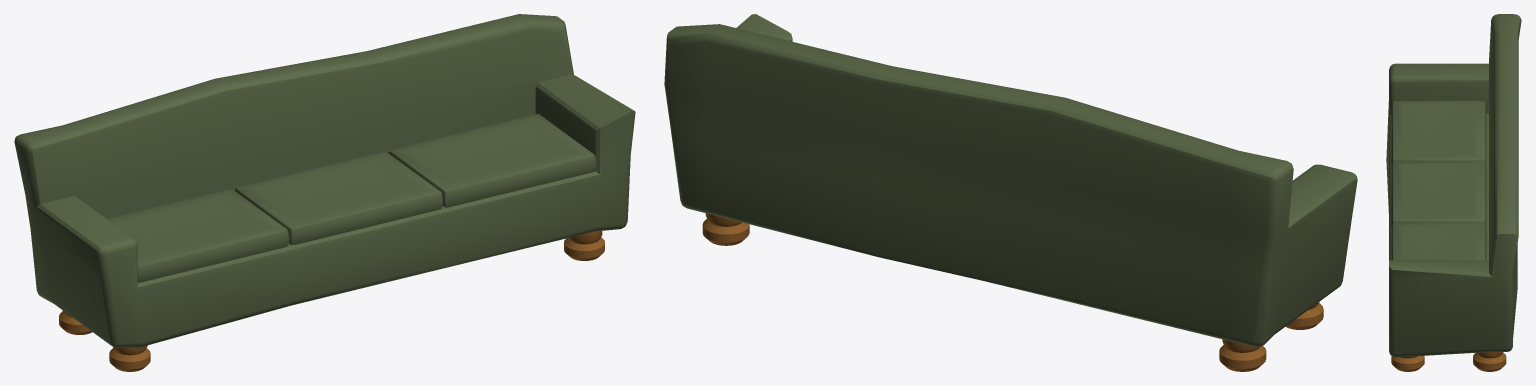
The model's file is couch.fbx.
3 renders of one model, left to right at view 1: azimuth 30°, elevation 25°; view 2: azimuth 150°, elevation 25°; view 3: azimuth 270°, elevation 25°, orthographic. The views are drawn at different scales.
Visible parts, largest first — view 1: Couch; view 2: Couch; view 3: Couch.
Boxes of the visible parts, x1=… form: Couch: x1=14, y1=14, x2=635, y2=371; Couch: x1=664, y1=14, x2=1357, y2=371; Couch: x1=1386, y1=14, x2=1521, y2=371.
Size of the model in its own units: 562 by 149 by 199.
